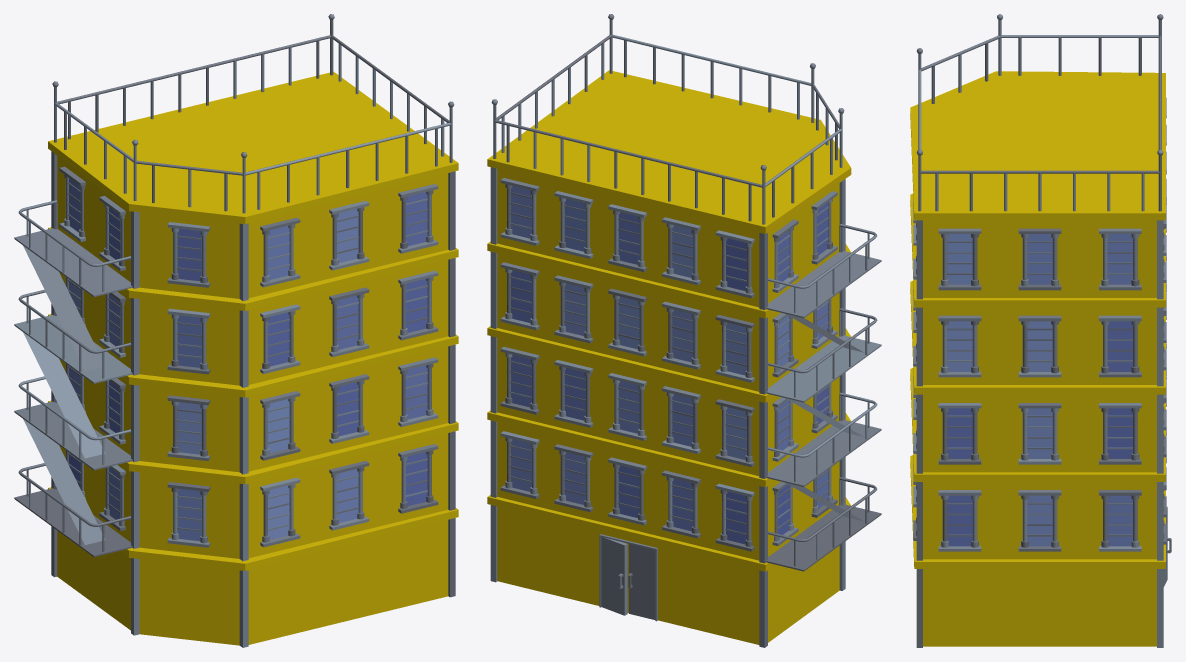
Rendered from Building Procedural.002.fbx.
3 views of the same model, side by side, from view 1: azimuth 30°, elevation 25°; view 2: azimuth 150°, elevation 25°; view 3: azimuth 270°, elevation 25° (orthographic). The views are drawn at different scales.
Visible parts, largest first — view 1: Building Procedural.002; view 2: Building Procedural.002; view 3: Building Procedural.002.
Part boxes in pixels (x1=…): Building Procedural.002: x1=14, y1=14, x2=458, y2=647; Building Procedural.002: x1=487, y1=14, x2=881, y2=647; Building Procedural.002: x1=910, y1=14, x2=1171, y2=647.
Bounding box in the file's own units: 1171 × 1710 × 815.
